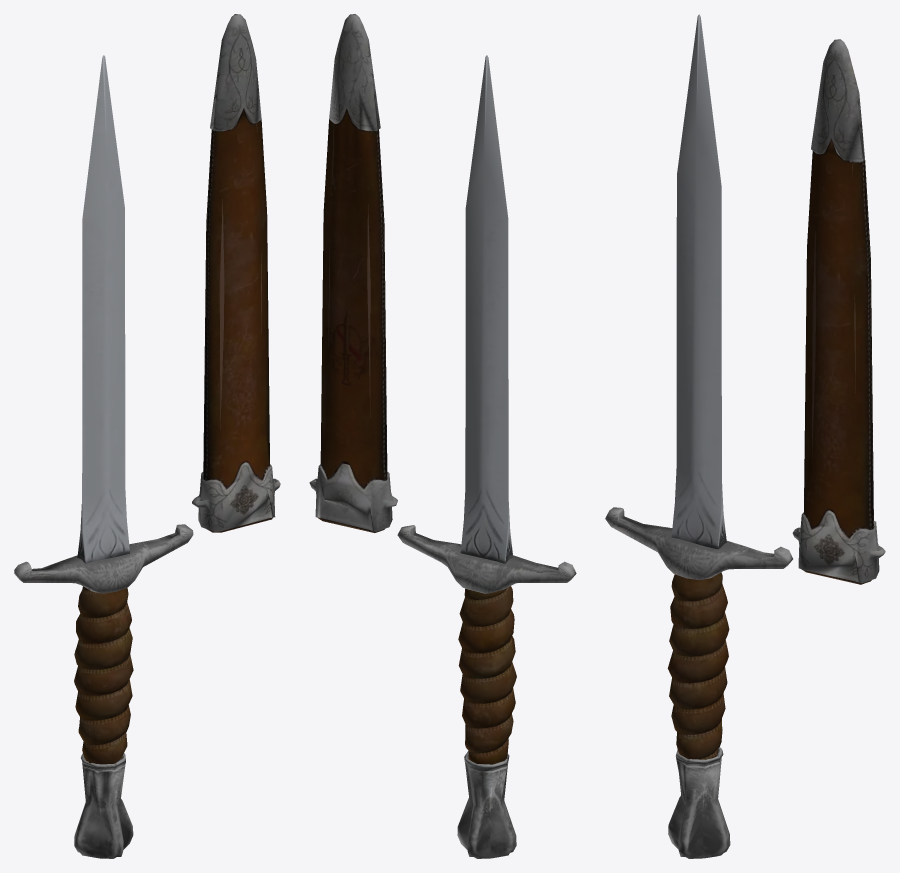
The model's file is ornate_medieval_dagger.glb.
The picture shows the model from 3 angles, left to right: view 1: azimuth 30°, elevation 25°; view 2: azimuth 150°, elevation 25°; view 3: azimuth 330°, elevation 25°; orthographic projection. The views are drawn at different scales.
Parts seen in each view (by area): view 1: ornate_medieval_dagger; view 2: ornate_medieval_dagger; view 3: ornate_medieval_dagger.
Boxes of the visible parts, x1,y1,x2,y2 form: ornate_medieval_dagger: [14, 14, 280, 858]; ornate_medieval_dagger: [309, 14, 576, 858]; ornate_medieval_dagger: [605, 14, 885, 858].
Bounding box in the file's own units: 0.1195 × 0.3489 × 0.025.
Materials: 1 (1 with a texture image).
